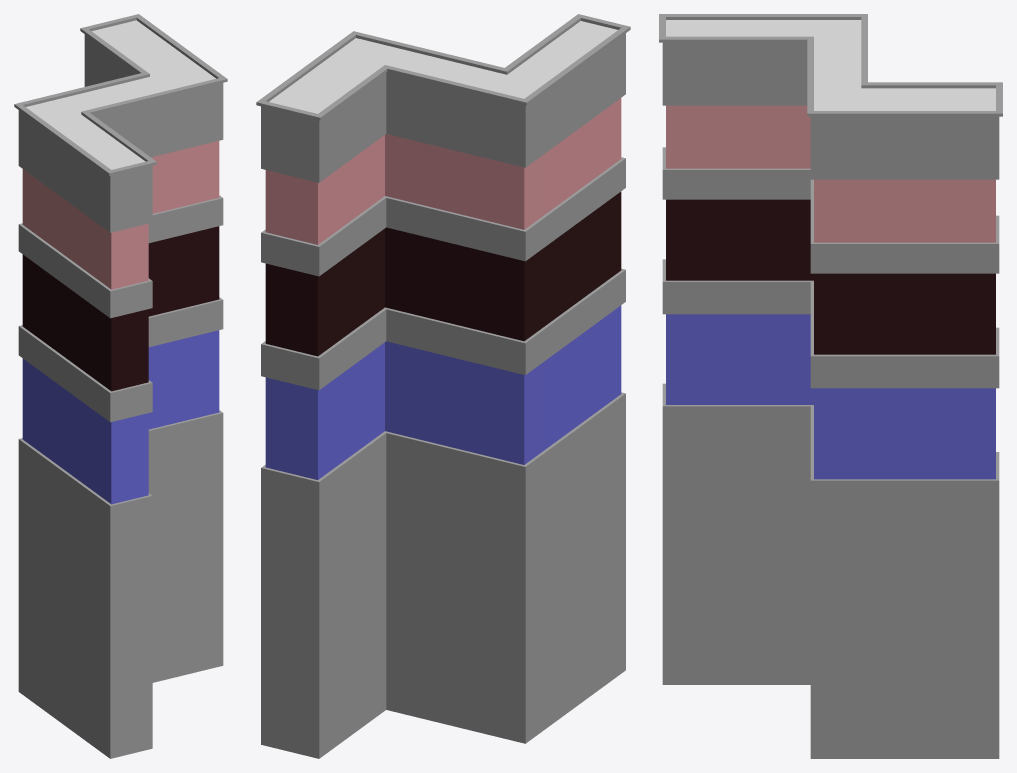
Rendered from Edificio1.fbx.
3 renders of one model, left to right at view 1: azimuth 30°, elevation 25°; view 2: azimuth 150°, elevation 25°; view 3: azimuth 270°, elevation 25°, orthographic. The views are drawn at different scales.
Visible parts, largest first — view 1: Platform_6x6; view 2: Platform_6x6; view 3: Platform_6x6.
Part boxes in pixels (x1,y1,x2,y2): Platform_6x6: [14, 14, 227, 758]; Platform_6x6: [256, 14, 630, 758]; Platform_6x6: [659, 14, 1002, 758].
Size of the model in its own units: 7005 by 21175 by 10201.
